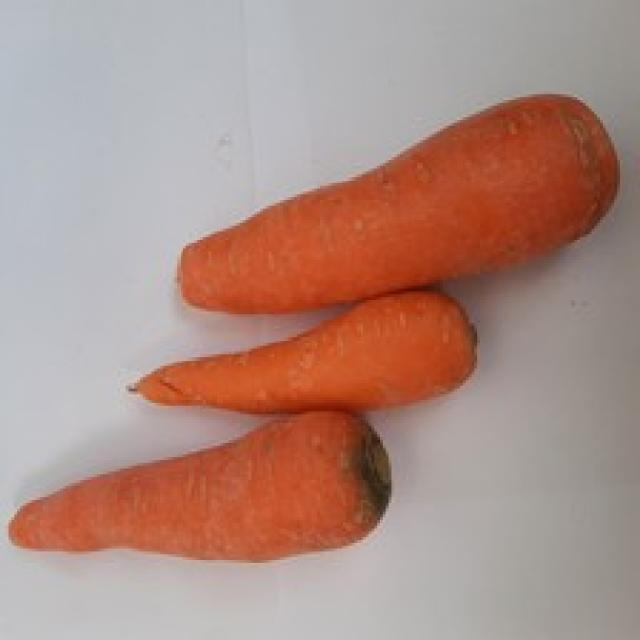carrot: (177, 94, 624, 316), (15, 410, 397, 572), (139, 291, 475, 411)
